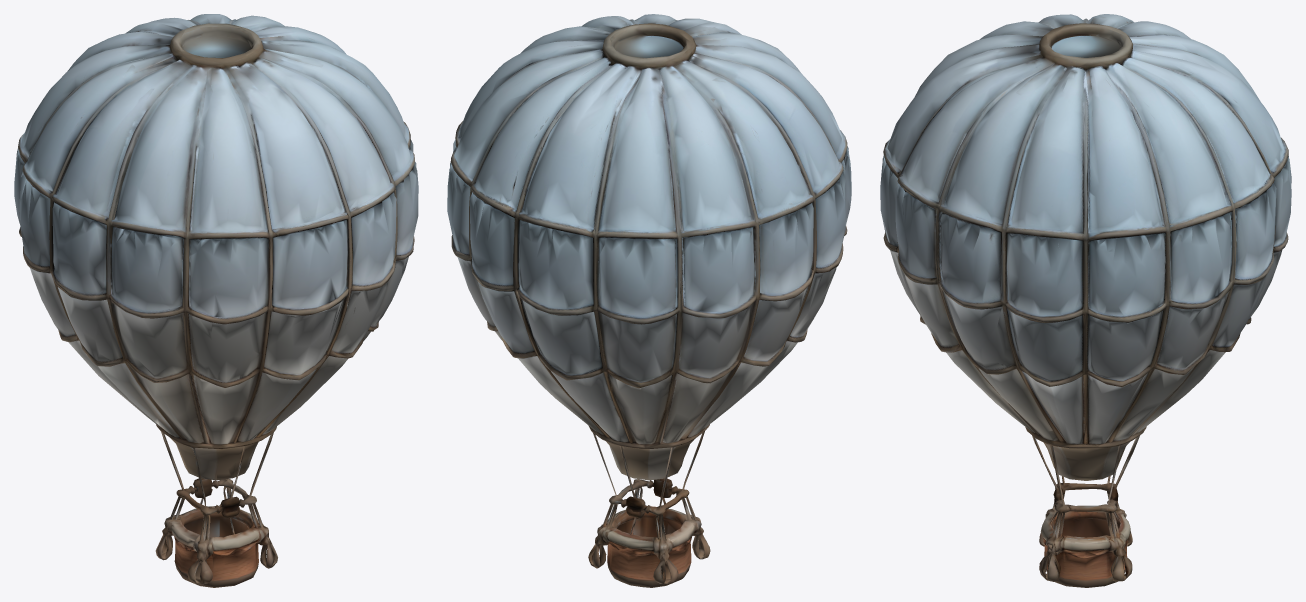
Rendered from balloon.glb.
The picture shows the model from 3 angles, left to right: view 1: azimuth 30°, elevation 25°; view 2: azimuth 150°, elevation 25°; view 3: azimuth 270°, elevation 25°; orthographic projection.
Parts seen in each view (by area): view 1: node_0; view 2: node_0; view 3: node_0.
Part boxes in pixels (x1,y1,x2,y2): node_0: (14,14,418,587); node_0: (447,14,851,587); node_0: (880,14,1291,587).
Bounding box in the file's own units: 0.8119 × 1.19 × 0.8297.
Materials: 1 (1 with a texture image).
